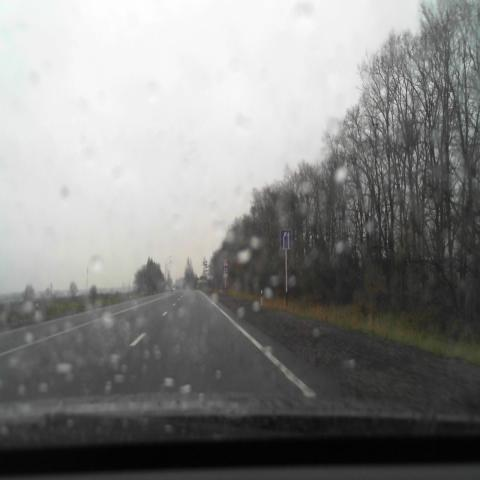5_15_5: (280, 230, 292, 250)
